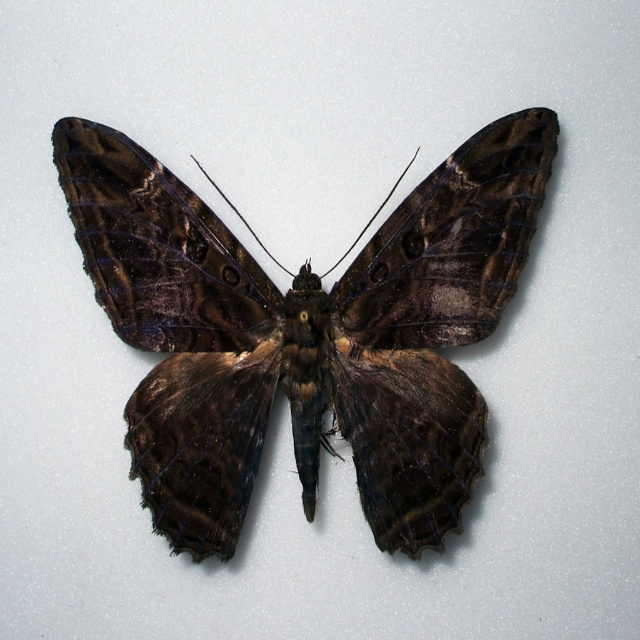Butterfly: (74, 108, 544, 600)
